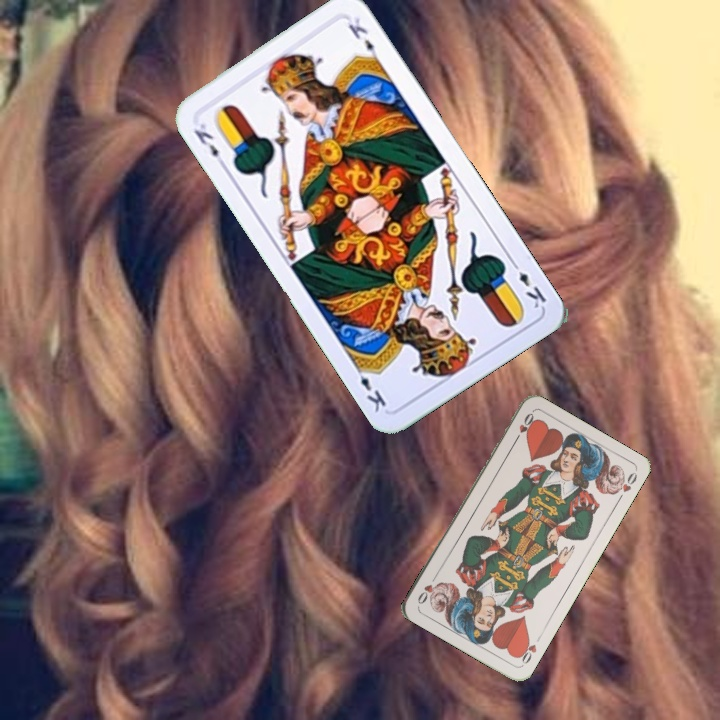EK: (507, 256, 549, 311), (189, 119, 229, 171)
HO: (514, 631, 544, 668), (510, 409, 536, 445)
